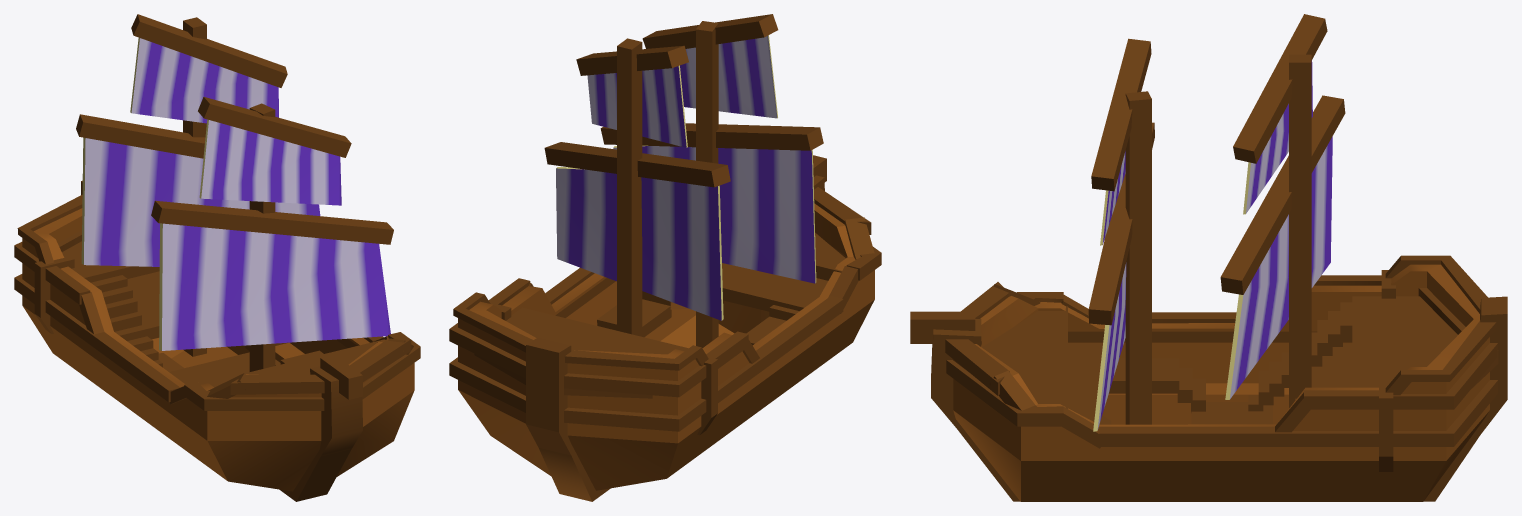
File: merchantship.fbx
3 renders of one model, left to right at view 1: azimuth 30°, elevation 25°; view 2: azimuth 150°, elevation 25°; view 3: azimuth 270°, elevation 25°, orthographic. The views are drawn at different scales.
Visible parts, largest first — view 1: polySurface181; view 2: polySurface181; view 3: polySurface181.
Part boxes in pixels (x1,y1,x2,y2): polySurface181: [14, 14, 420, 501]; polySurface181: [449, 14, 881, 501]; polySurface181: [910, 14, 1507, 501].
Bounding box in the file's own units: 132 × 218 × 260.
Materials: 1 (1 with a texture image).
